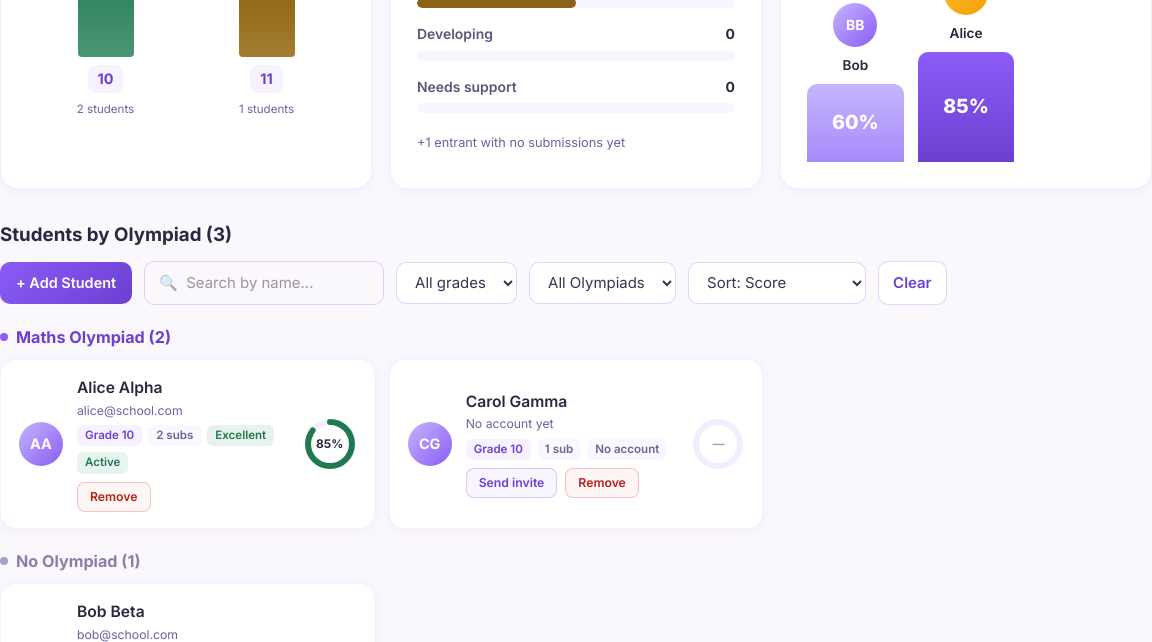
it: School Dashboard Page › shows no-results state when filters match nothing
(page scrolled)
Expected: the text "Alice Alpha" is shown, [77,378,163,397]
Type "zzzzz" into the field with placeholder "🔍 Search by name..." at (264, 283), box [144,261,384,305]
(page scrolled)
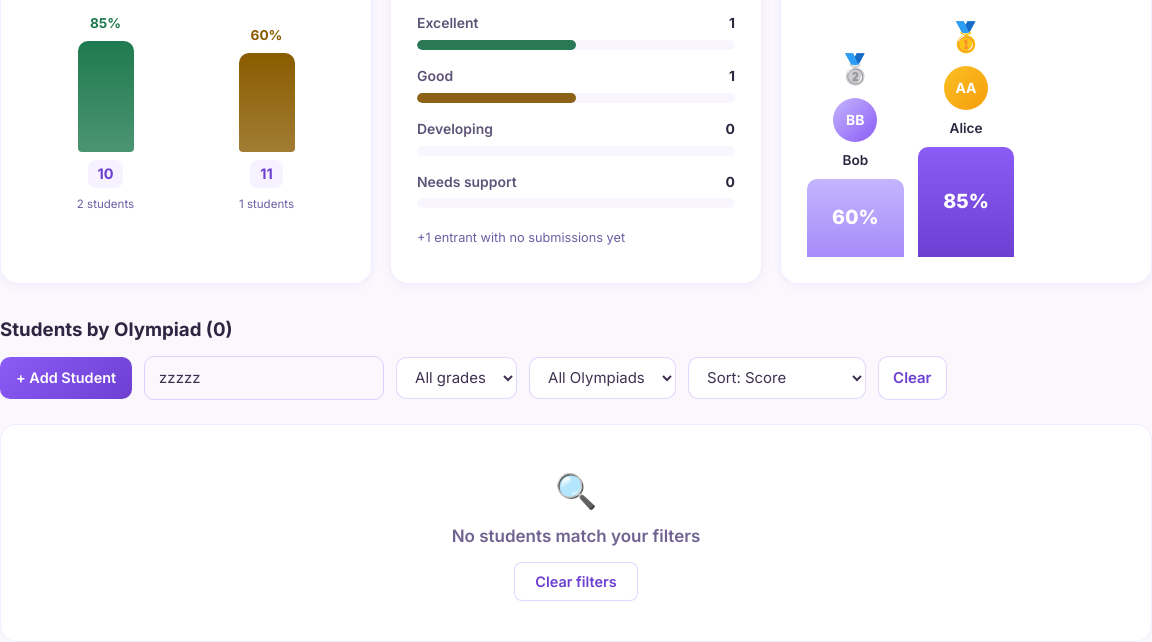
Expected: the text "No students match your filters" is shown, [452,526,700,546]
